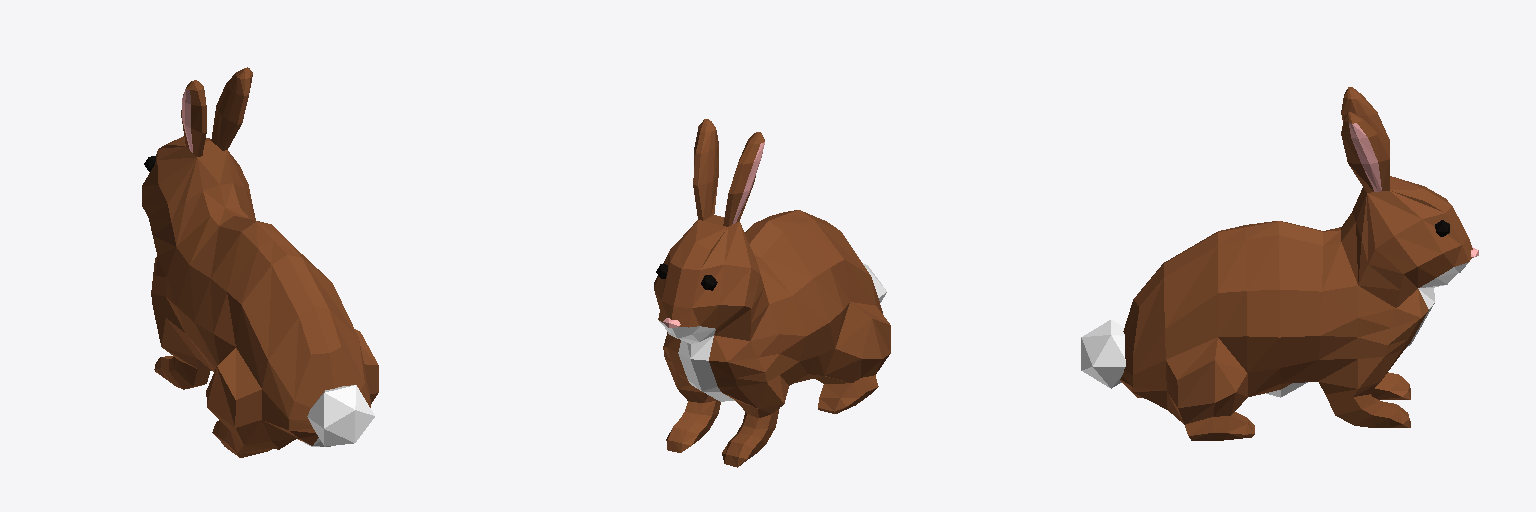
The model's file is NOVELO_RABBIT.obj.
3 views of the same model, side by side, from view 1: azimuth 30°, elevation 25°; view 2: azimuth 150°, elevation 25°; view 3: azimuth 270°, elevation 25° (orthographic).
Visible parts, largest first — view 1: Rabbit; view 2: Rabbit; view 3: Rabbit.
Boxes of the visible parts, x1=… form: Rabbit: x1=142, y1=67, x2=378, y2=457; Rabbit: x1=654, y1=119, x2=890, y2=467; Rabbit: x1=1081, y1=87, x2=1478, y2=440.
Bounding box in the file's own units: 323 × 588 × 681.